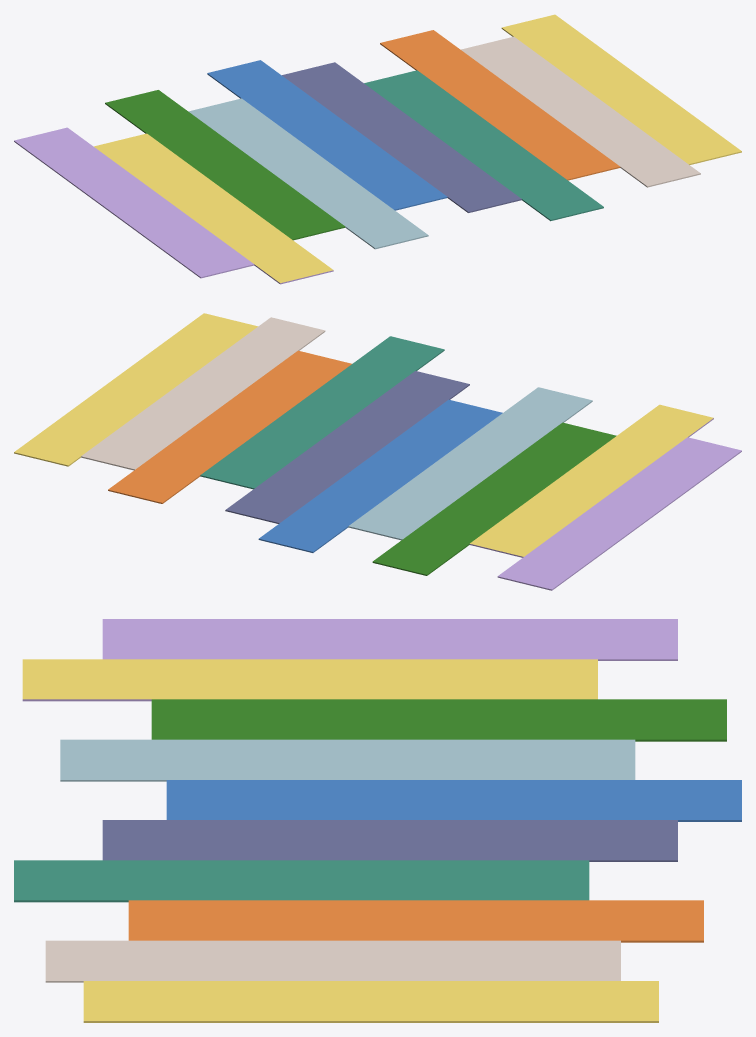
File: Carpet_2.glb
3 views of the same model, one above another, from view 1: azimuth 30°, elevation 25°; view 2: azimuth 150°, elevation 25°; view 3: azimuth 270°, elevation 25° (orthographic). The views are drawn at different scales.
Visible parts, largest first — view 1: Carpet_2; view 2: Carpet_2; view 3: Carpet_2.
Part boxes in pixels (<box>): Carpet_2: <box>14,14,741,284</box>; Carpet_2: <box>14,313,741,590</box>; Carpet_2: <box>14,619,741,1022</box>.
Size of the model in its own units: 3.13 by 0.00693 by 2.4.
1 material, 1 textured.
